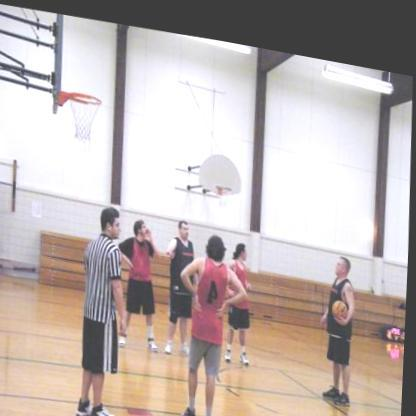basketball: (334, 284, 351, 309)
rim: (69, 86, 102, 107), (217, 175, 233, 184)
